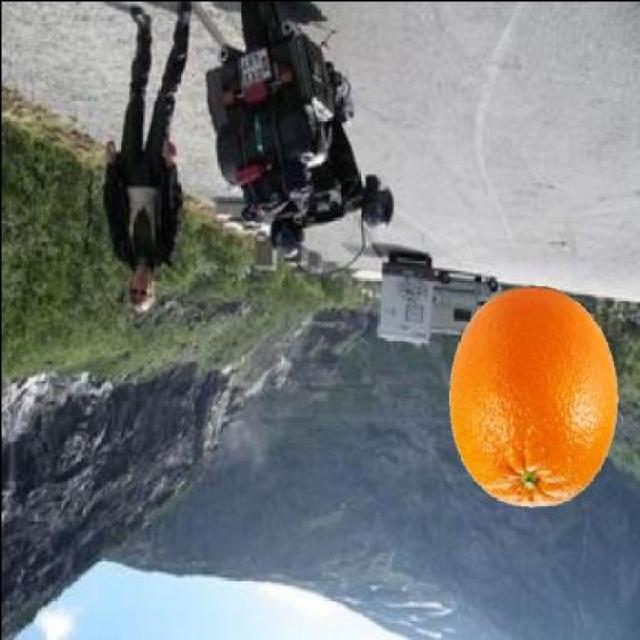Orange: (446, 283, 619, 509)
